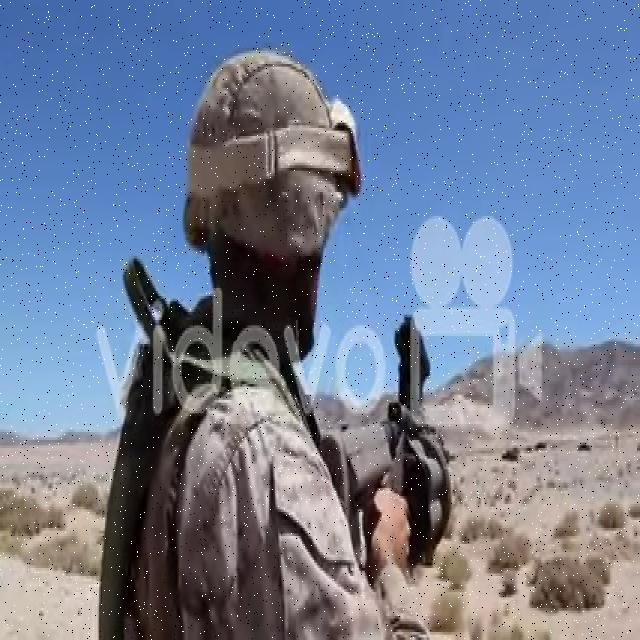bazooka: (320, 309, 463, 580)
